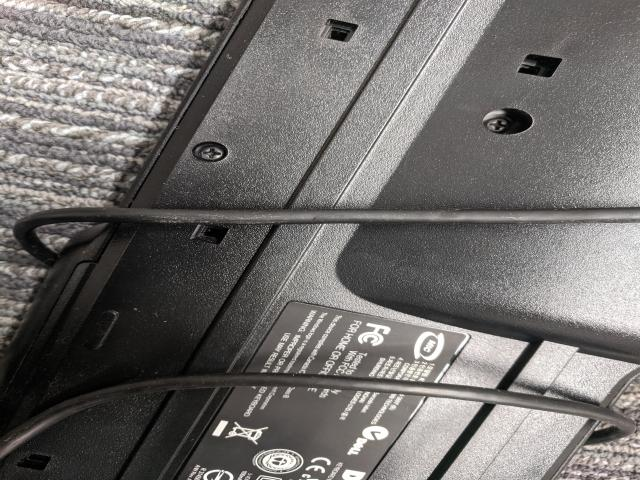CRS: (196, 145, 228, 163), (482, 117, 514, 135)
